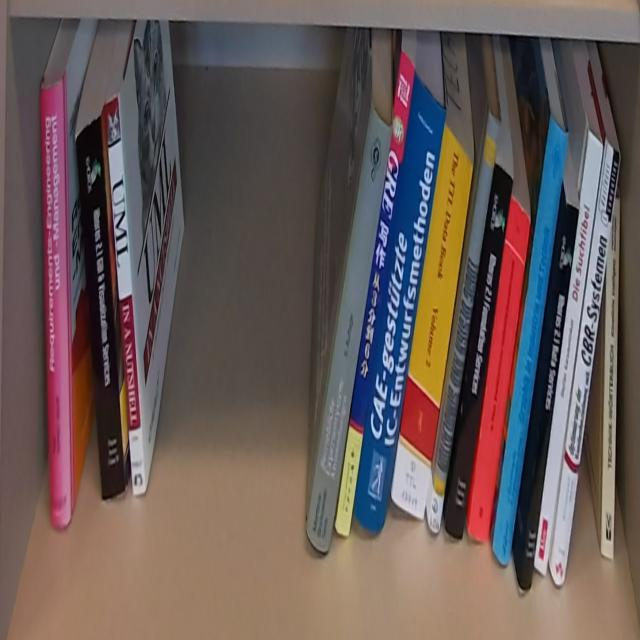Book Spine: (356, 61, 448, 538), (306, 98, 393, 557), (336, 52, 415, 545), (493, 112, 570, 568), (391, 121, 473, 522), (548, 141, 621, 586), (534, 131, 605, 575), (427, 106, 500, 535), (439, 161, 512, 539), (518, 205, 581, 595), (470, 192, 532, 542), (74, 114, 126, 498), (105, 94, 147, 499), (39, 81, 74, 530), (600, 191, 620, 561)
